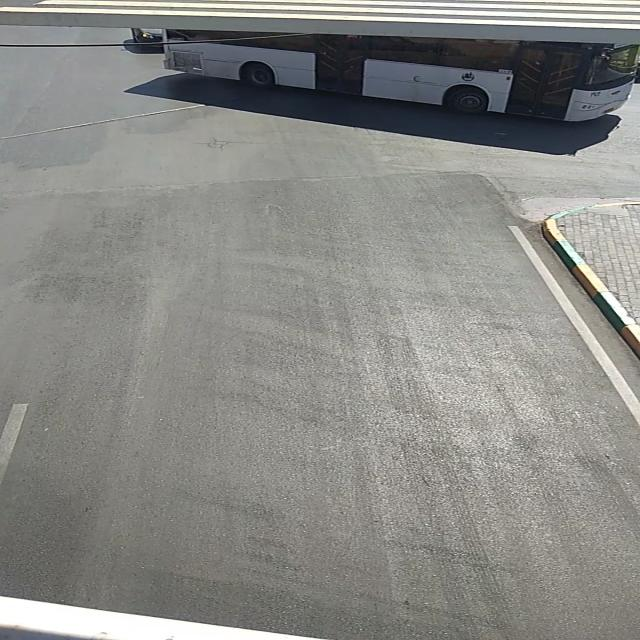bus: (158, 29, 636, 123)
